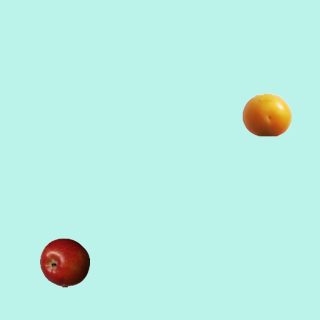Apple Braeburn: (39, 237, 89, 287)
Cherry Wax Yellow: (241, 89, 291, 139)
